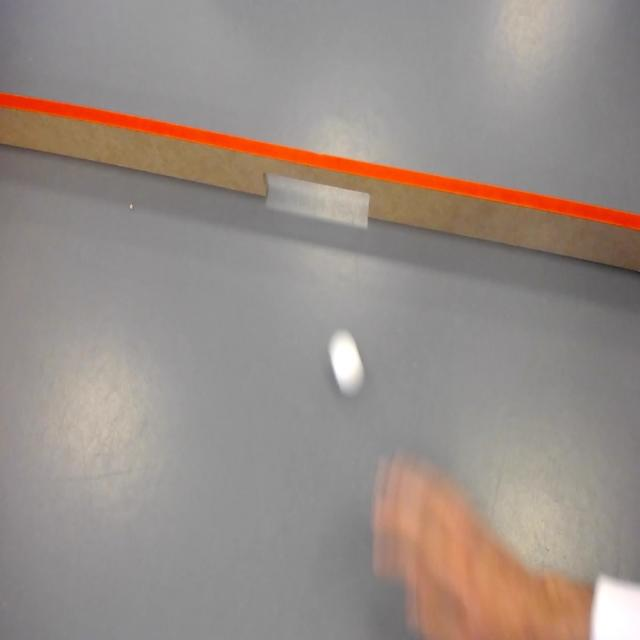big-goal: (262, 173, 370, 224)
obstacle: (1, 90, 639, 276)
white-golf-balls: (327, 328, 363, 383)
